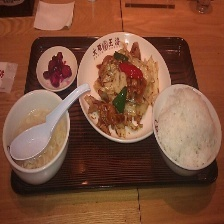rice: (153, 86, 222, 173)
